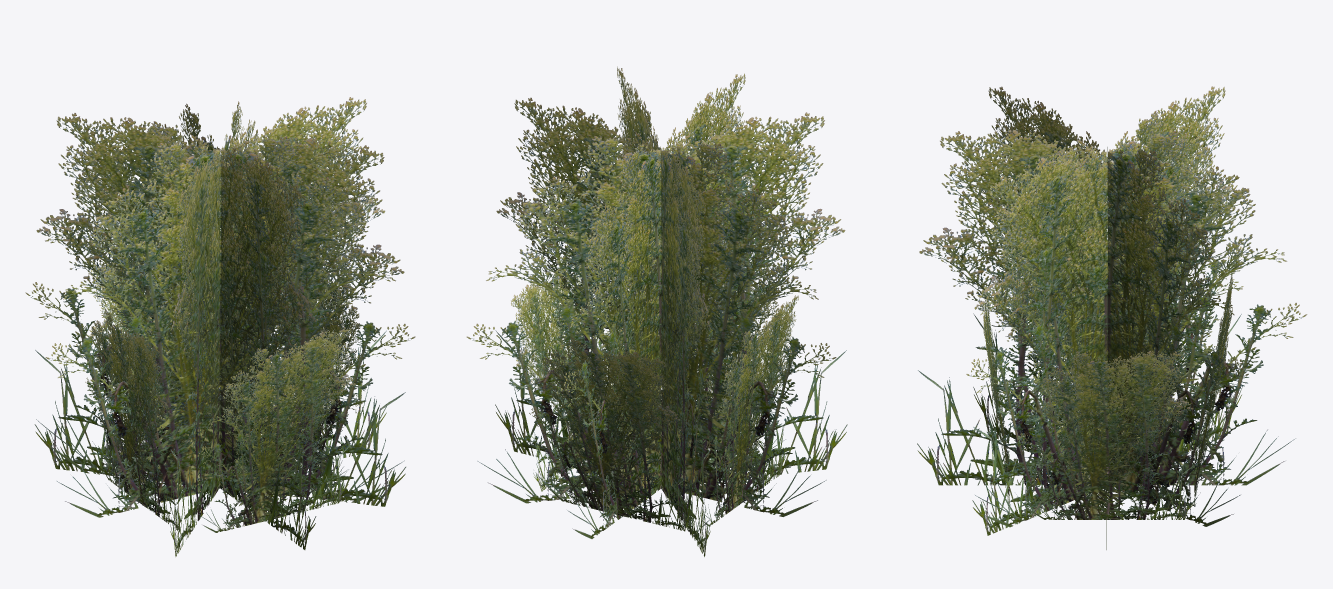
File: Bush_Noah.obj
3 renders of one model, left to right at view 1: azimuth 30°, elevation 25°; view 2: azimuth 150°, elevation 25°; view 3: azimuth 270°, elevation 25°, orthographic.
Visible parts, largest first — view 1: Plane, Plane.004, Plane.002, Plane.001, Plane.008, Plane.003, Plane.005, Plane.007, Plane.006; view 2: Plane.003, Plane, Plane.001, Plane.006, Plane.002, Plane.004, Plane.005, Plane.007, Plane.008; view 3: Plane.001, Plane.003, Plane.002, Plane.004, Plane.007, Plane.006, Plane.008.
Part boxes in pixels (bbox=[...]): Plane: bbox=[45, 97, 386, 517]; Plane.004: bbox=[34, 113, 415, 502]; Plane.002: bbox=[25, 121, 405, 506]; Plane.001: bbox=[129, 103, 316, 549]; Plane.008: bbox=[198, 327, 355, 532]; Plane.003: bbox=[170, 101, 259, 556]; Plane.005: bbox=[85, 309, 181, 531]; Plane.007: bbox=[286, 269, 362, 485]; Plane.006: bbox=[89, 258, 220, 464]; Plane.003: bbox=[466, 112, 847, 503]; Plane: bbox=[495, 97, 836, 516]; Plane.001: bbox=[560, 73, 755, 538]; Plane.006: bbox=[529, 337, 691, 531]; Plane.002: bbox=[616, 66, 713, 544]; Plane.004: bbox=[623, 101, 710, 556]; Plane.005: bbox=[703, 295, 798, 526]; Plane.007: bbox=[511, 262, 608, 491]; Plane.008: bbox=[689, 258, 792, 456]; Plane.001: bbox=[917, 129, 1307, 485]; Plane.003: bbox=[973, 86, 1248, 526]; Plane.002: bbox=[972, 110, 1248, 535]; Plane.004: bbox=[966, 86, 1242, 527]; Plane.007: bbox=[1017, 350, 1194, 519]; Plane.006: bbox=[1194, 268, 1232, 506]; Plane.008: bbox=[983, 292, 1009, 514].
Size of the model in its own units: 2 by 2 by 2.
